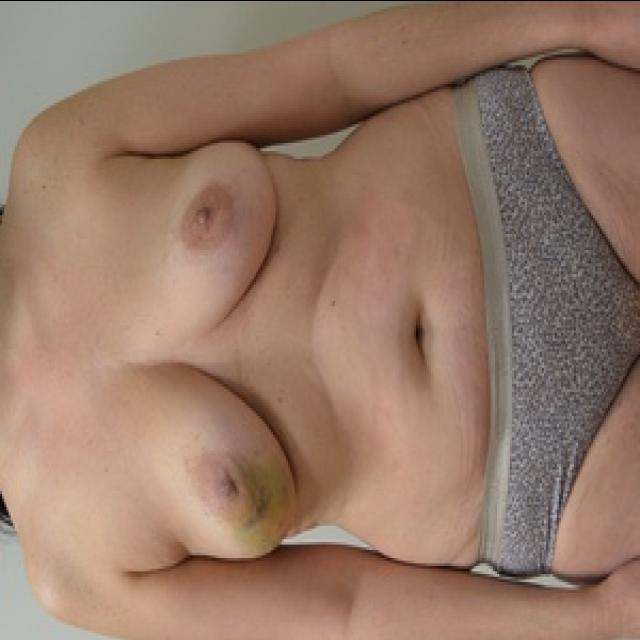Seno herido: (100, 354, 312, 572)
Seno ileso: (100, 128, 296, 348)
